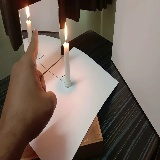fire: (64, 21, 69, 41)
